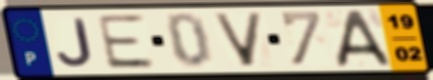0: (165, 11, 213, 70)
7: (278, 10, 324, 68)
A: (334, 8, 395, 69)
E: (94, 13, 158, 71)
J: (55, 16, 96, 68)
V: (209, 11, 266, 69)
